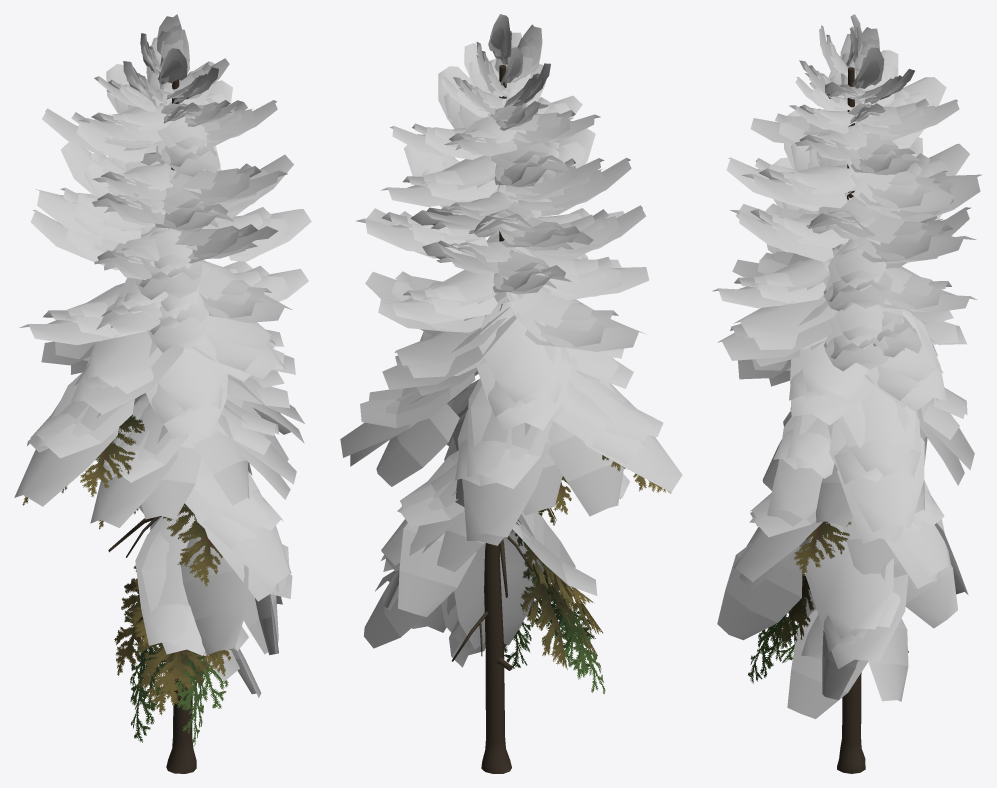
The model's file is Fir_Gr+Ân.L.B.Y1.fbx.
3 renders of one model, left to right at view 1: azimuth 30°, elevation 25°; view 2: azimuth 150°, elevation 25°; view 3: azimuth 270°, elevation 25°, orthographic.
Visible parts, largest first — view 1: Fir_Grön_L_B_Y1; view 2: Fir_Grön_L_B_Y1; view 3: Fir_Grön_L_B_Y1.
Boxes of the visible parts, x1,y1,x2,y2 form: Fir_Grön_L_B_Y1: (14, 14, 311, 773); Fir_Grön_L_B_Y1: (340, 14, 682, 773); Fir_Grön_L_B_Y1: (712, 14, 981, 773).
Bounding box in the file's own units: 634 × 1490 × 490.
